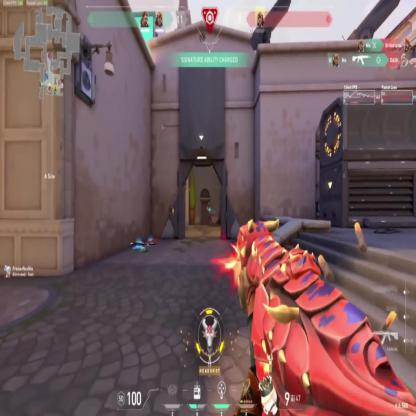enemy: (208, 206, 212, 224)
enemy_head: (208, 207, 212, 212)
